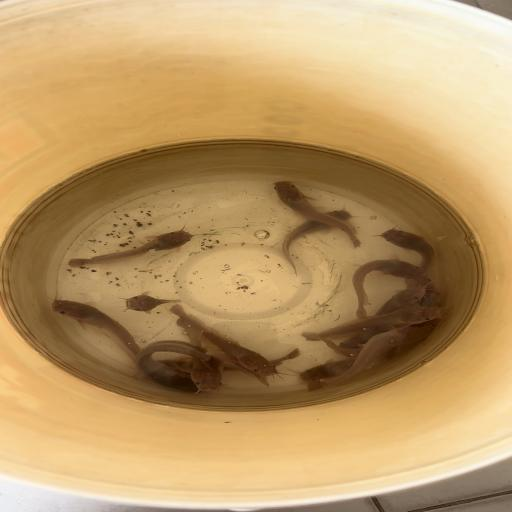lele: (168, 303, 279, 377), (307, 326, 431, 391), (272, 180, 362, 249), (51, 296, 145, 356), (302, 305, 442, 342), (67, 229, 194, 269), (134, 340, 222, 396), (282, 210, 353, 278), (351, 260, 422, 320), (175, 315, 225, 393), (156, 347, 302, 370), (377, 227, 436, 274), (298, 354, 383, 384), (372, 284, 428, 317), (212, 360, 270, 388), (301, 332, 372, 354), (123, 291, 182, 314), (410, 276, 444, 307), (337, 331, 381, 351)
